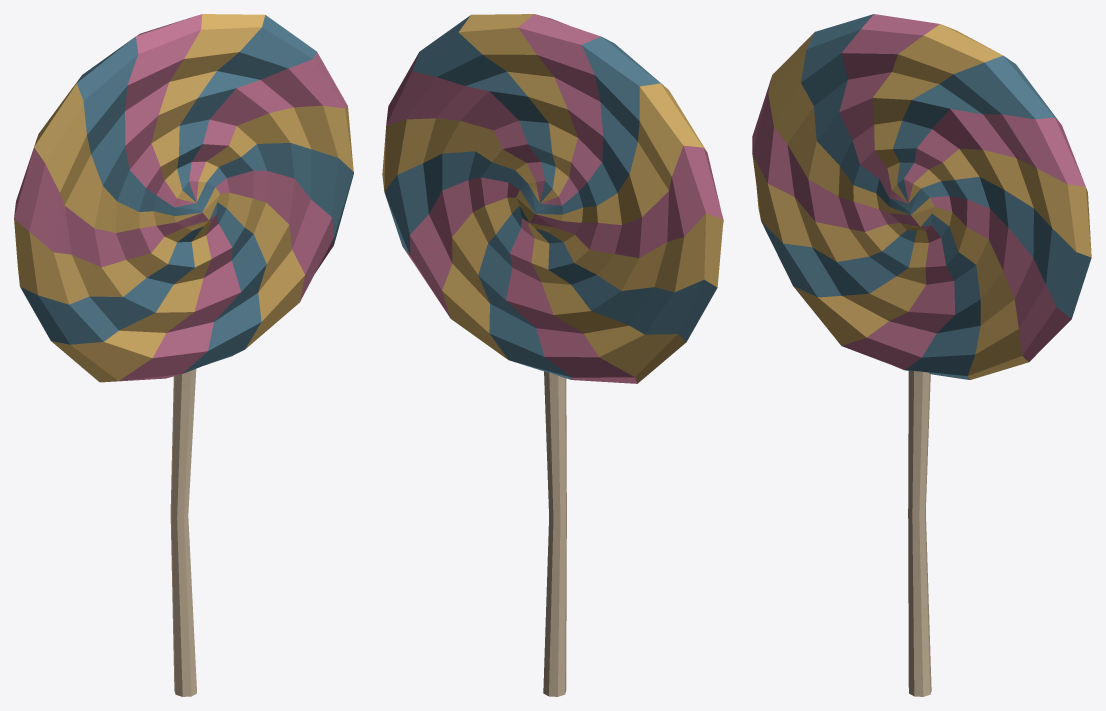
File: SM_Prop_LargeSign_Lollypop_01.fbx
3 views of the same model, side by side, from view 1: azimuth 30°, elevation 25°; view 2: azimuth 150°, elevation 25°; view 3: azimuth 330°, elevation 25° (orthographic).
Visible parts, largest first — view 1: SM_Prop_LargeSign_Lollypop_01; view 2: SM_Prop_LargeSign_Lollypop_01; view 3: SM_Prop_LargeSign_Lollypop_01.
Part boxes in pixels (x1,y1,x2,y2): SM_Prop_LargeSign_Lollypop_01: (14,14,353,696); SM_Prop_LargeSign_Lollypop_01: (382,14,723,696); SM_Prop_LargeSign_Lollypop_01: (752,14,1091,696).
Bounding box in the file's own units: 336 × 636 × 51.18.
